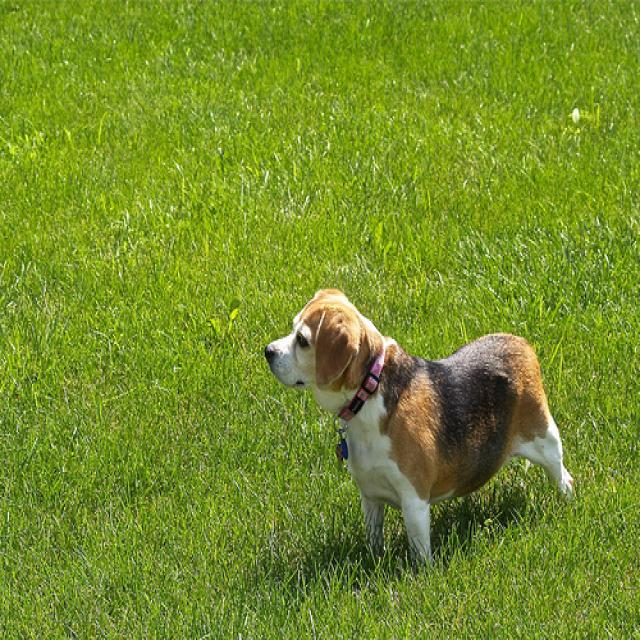dog-beagle: (253, 281, 586, 578)
